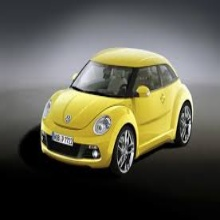no damage: (38, 47, 194, 174)
